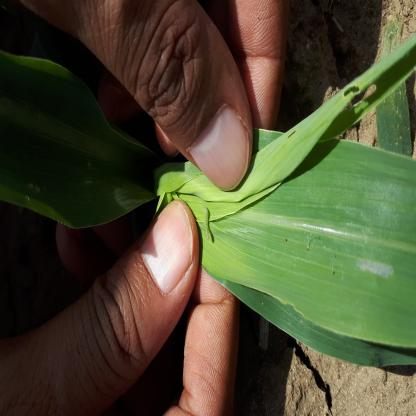armyworm: (98, 361, 120, 373)
